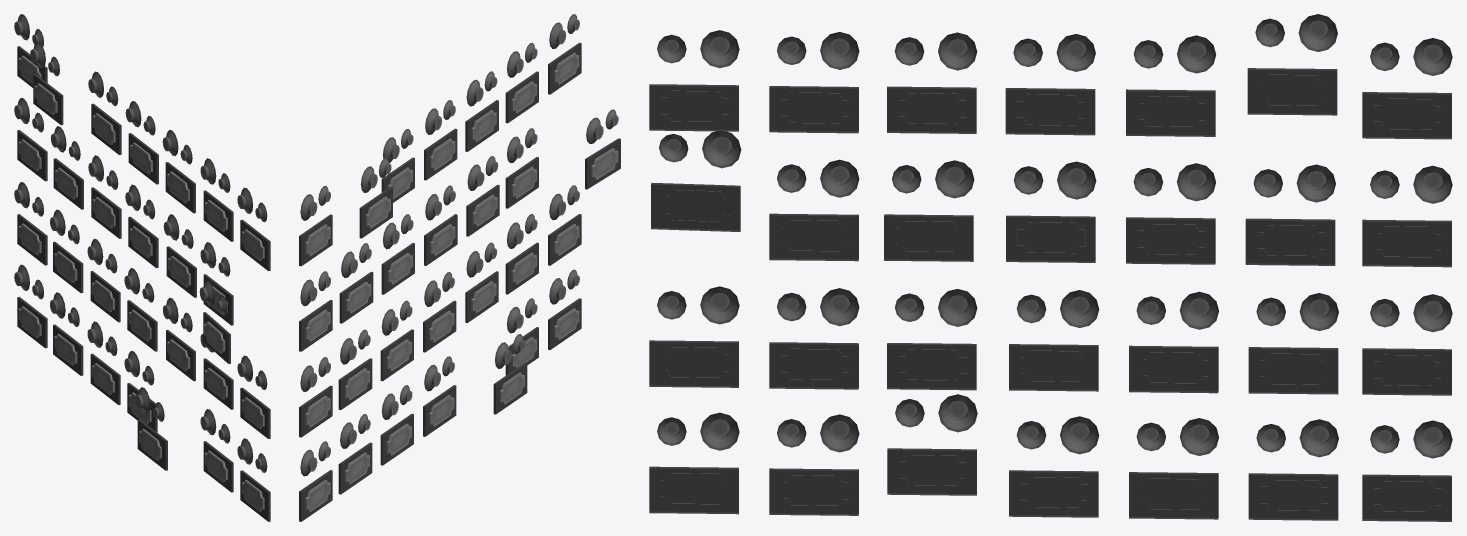
Rendered from PostCageDial.fbx.
3 renders of one model, left to right at view 1: azimuth 30°, elevation 25°; view 2: azimuth 150°, elevation 25°; view 3: azimuth 270°, elevation 25°, orthographic. The views are drawn at different scales.
Parts seen in each view (by area): view 1: postCageDial2; view 2: postCageDial2; view 3: postCageDial2.
Boxes of the visible parts, box(x1,y1,x2,y2) form: postCageDial2: box(14, 14, 270, 521); postCageDial2: box(299, 14, 620, 521); postCageDial2: box(649, 14, 1452, 521).
Size of the model in its own units: 1.63 by 8.89 by 13.2.
